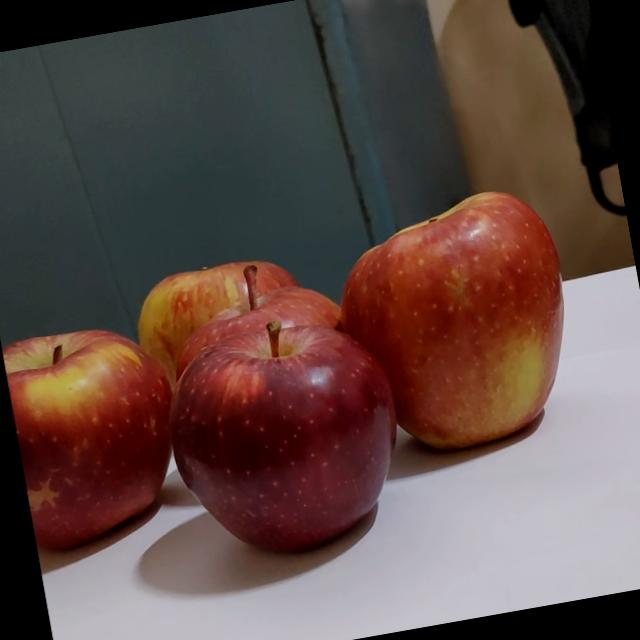apple: (348, 191, 594, 459), (180, 310, 426, 563), (0, 309, 211, 545), (179, 248, 381, 482), (178, 250, 358, 450)
